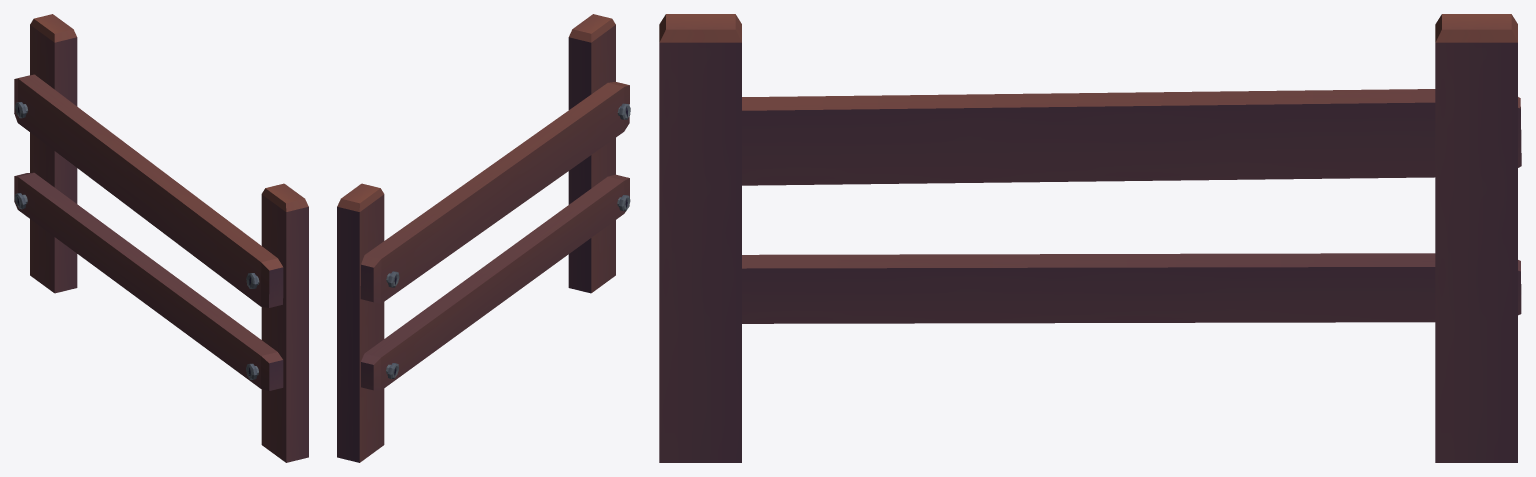
The model's file is Town_Fence01.fbx.
The picture shows the model from 3 angles, left to right: view 1: azimuth 30°, elevation 25°; view 2: azimuth 150°, elevation 25°; view 3: azimuth 270°, elevation 25°; orthographic projection. The views are drawn at different scales.
Visible parts, largest first — view 1: Cube.032; view 2: Cube.032; view 3: Cube.032.
Part boxes in pixels (bbox=[...]): Cube.032: bbox=[14, 14, 308, 462]; Cube.032: bbox=[337, 14, 630, 462]; Cube.032: bbox=[659, 14, 1521, 462].
Size of the model in its own units: 19.04 by 99.55 by 180.
